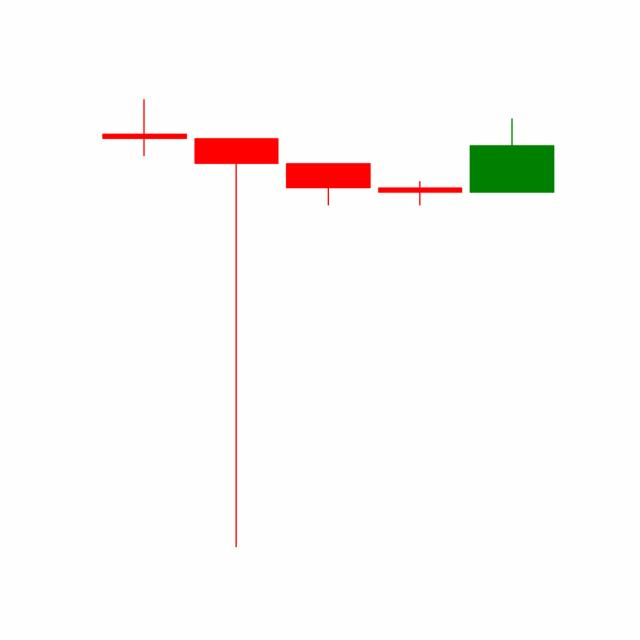Hanging Man: (373, 181, 467, 206)
